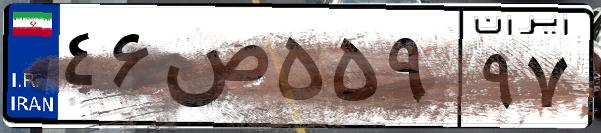4: (57, 26, 110, 100)
5: (270, 28, 330, 110), (330, 28, 385, 110)
6: (110, 28, 158, 98)
7: (525, 38, 570, 115)
9: (385, 28, 445, 110), (475, 38, 525, 113)
ص: (158, 20, 270, 120)
